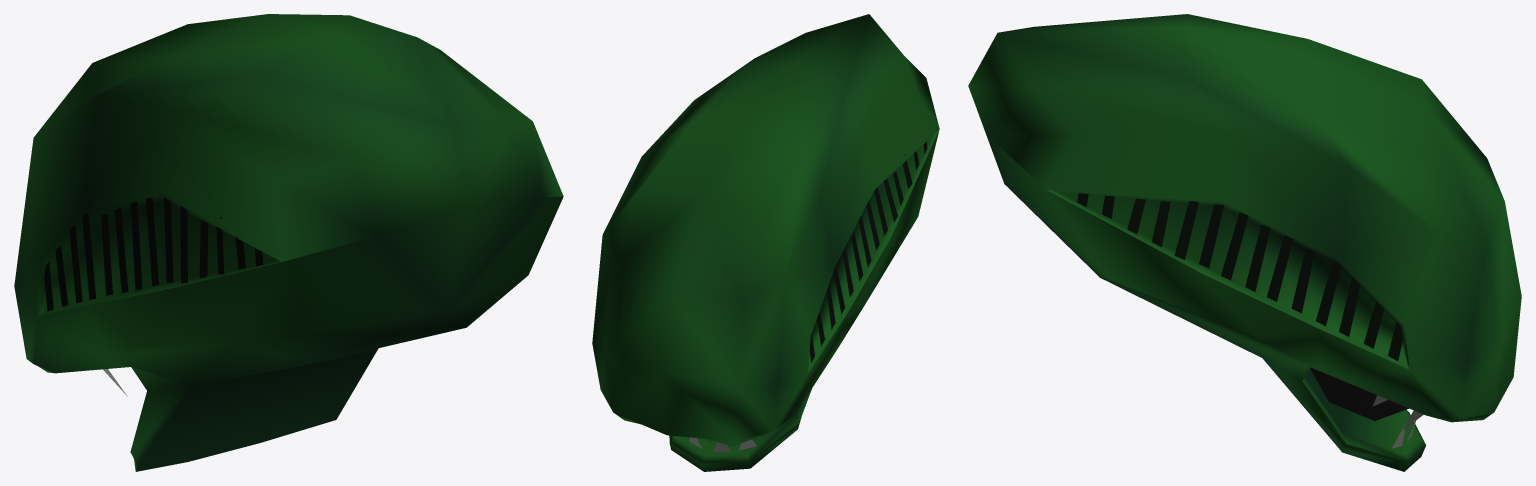
Rendered from hat_xenomorph.glb.
3 renders of one model, left to right at view 1: azimuth 30°, elevation 25°; view 2: azimuth 150°, elevation 25°; view 3: azimuth 270°, elevation 25°, orthographic. The views are drawn at different scales.
Visible parts, largest first — view 1: hat_xenomorph; view 2: hat_xenomorph; view 3: hat_xenomorph.
Part boxes in pixels (box(x1,y1,x2,y2)): hat_xenomorph: box(14, 14, 563, 471); hat_xenomorph: box(592, 14, 939, 471); hat_xenomorph: box(968, 14, 1521, 471).
Size of the model in its own units: 0.2747 by 0.4276 by 0.4978.
